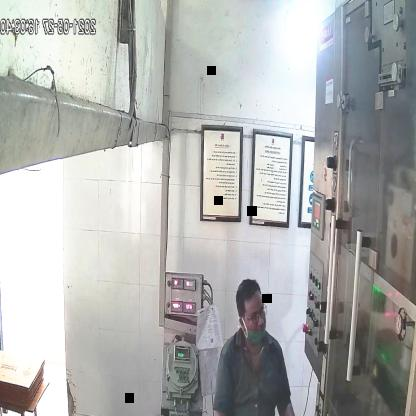goggles: (235, 301, 269, 327)
